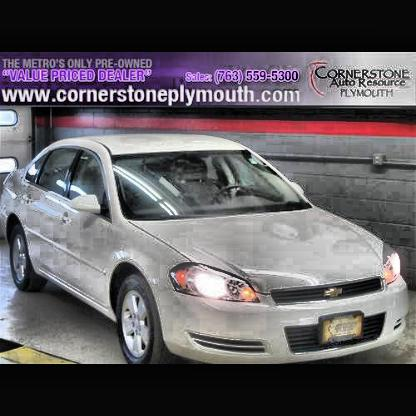Chevrolet Impala Sedan 2007: (1, 134, 411, 365)
